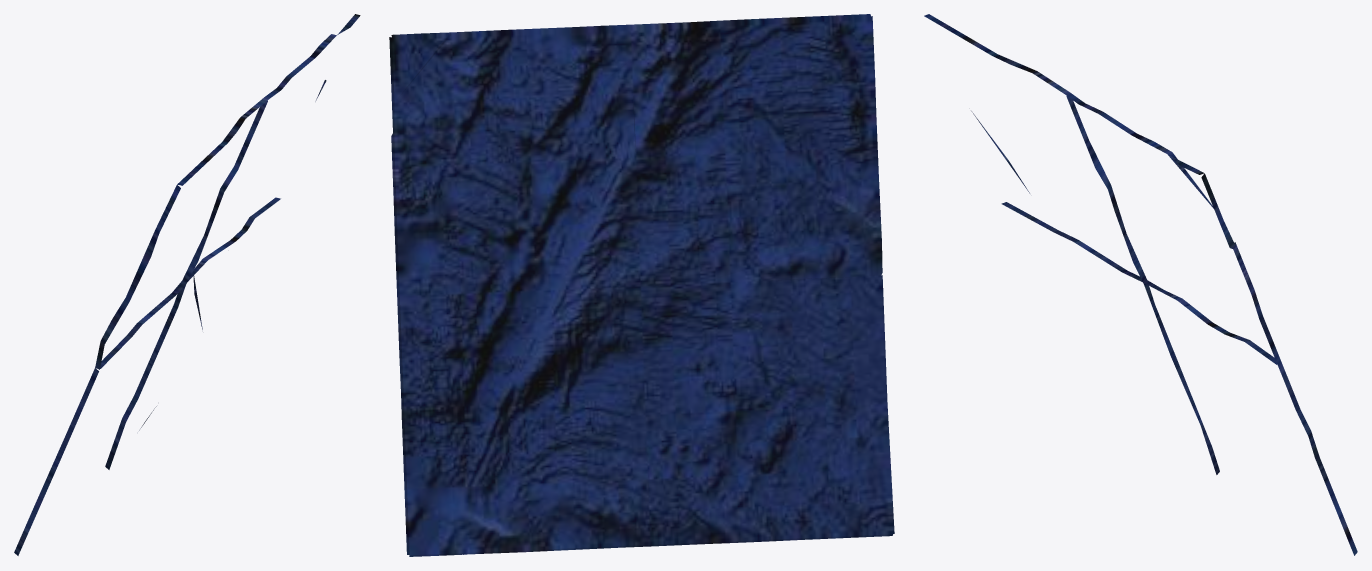
3 views of the same model, side by side, from view 1: azimuth 30°, elevation 25°; view 2: azimuth 150°, elevation 25°; view 3: azimuth 270°, elevation 25° (orthographic). The views are drawn at different scales.
Size of the model in its own units: 153796 by 147277 by 134816.
Materials: 1 (1 with a texture image).
